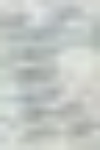K: (0, 0, 99, 149)
